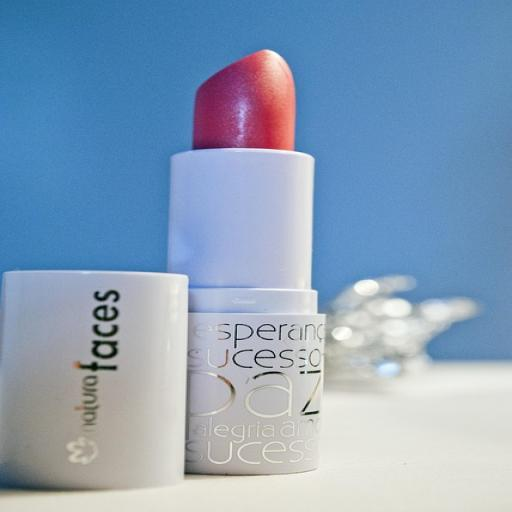lipstick: (169, 51, 324, 474)
